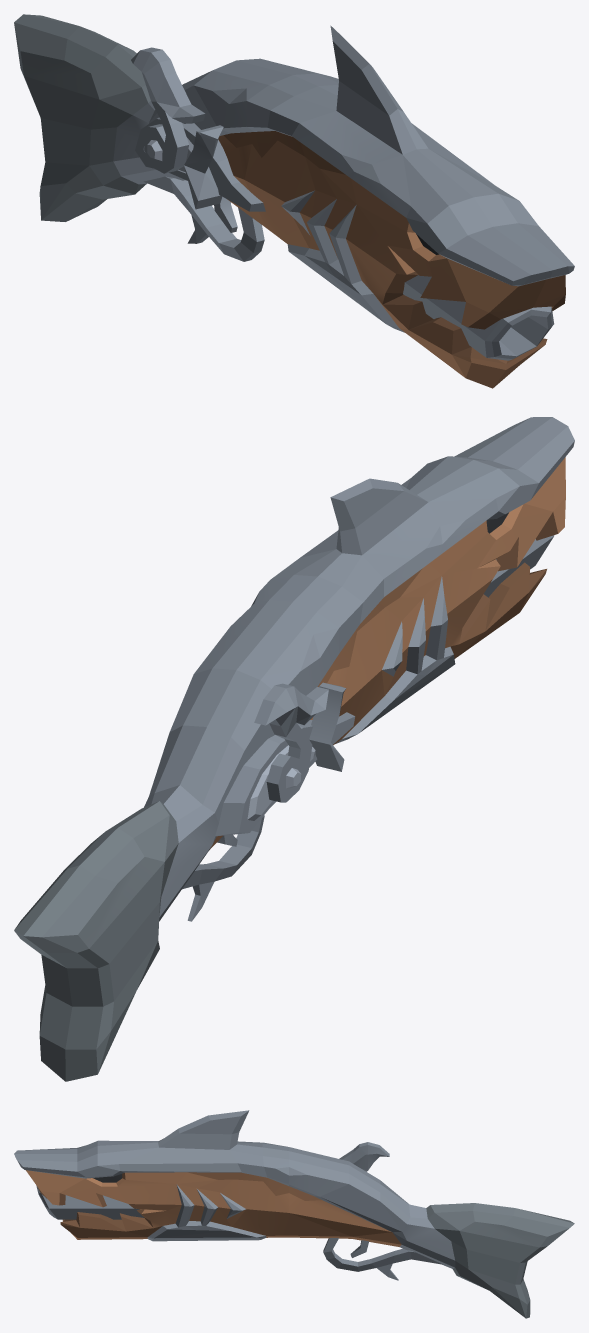
The model's file is SM_Wep_Rifle_02.fbx.
3 views of the same model, one above another, from view 1: azimuth 30°, elevation 25°; view 2: azimuth 150°, elevation 25°; view 3: azimuth 270°, elevation 25° (orthographic). The views are drawn at different scales.
Visible parts, largest first — view 1: SM_Wep_Rifle_02, SM_Wep_Pistol_02_Frizzen_01; view 2: SM_Wep_Rifle_02, SM_Wep_Pistol_02_Frizzen_01; view 3: SM_Wep_Rifle_02.
Part boxes in pixels (<box>): SM_Wep_Rifle_02: <box>14,14,574,388</box>; SM_Wep_Pistol_02_Frizzen_01: <box>184,125,223,209</box>; SM_Wep_Rifle_02: <box>14,417,574,1081</box>; SM_Wep_Pistol_02_Frizzen_01: <box>309,682,346,771</box>; SM_Wep_Rifle_02: <box>14,1110,574,1318</box>.
Bounding box in the file's own units: 11.9 × 33.36 × 81.91.
